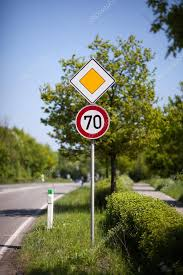Speed_limit_70km: (75, 105, 110, 139)
